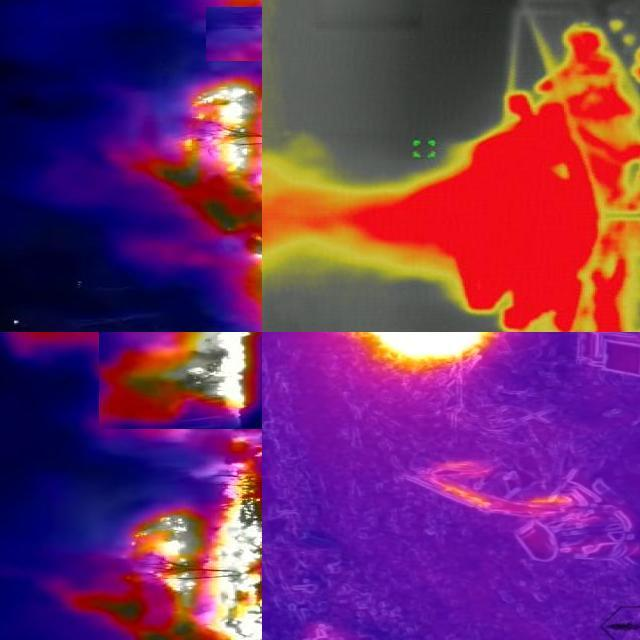fire: (263, 22, 640, 333), (57, 431, 263, 640), (148, 61, 263, 333), (99, 333, 263, 430), (263, 333, 500, 365), (206, 8, 263, 62)
